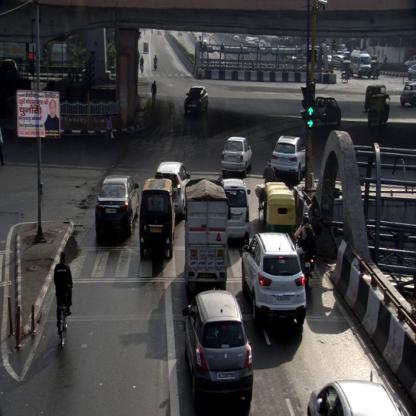bus: (349, 46, 372, 77)
car: (183, 289, 254, 410), (239, 232, 307, 332), (96, 174, 140, 238), (139, 178, 172, 260), (154, 159, 191, 219), (222, 176, 250, 247), (271, 134, 304, 179), (221, 136, 252, 177), (314, 94, 341, 132), (183, 86, 209, 118)
motorcycle: (53, 251, 69, 348), (296, 212, 315, 286), (154, 55, 158, 70)
truck: (184, 176, 228, 296)
